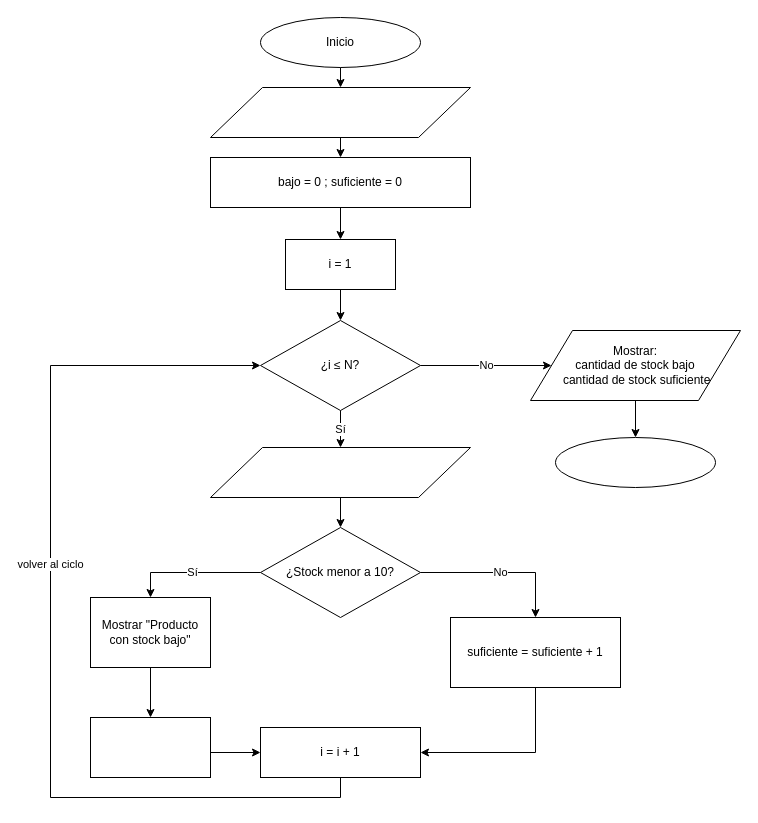
The diagram is 758 pixels wide and 823 high, and some of its shapes have lost their labels. Here are the shapes that lost their labels. From the top down, the box of each, then its label:
(210, 86, 470, 138): Leer cantidad de productos (N)
(210, 446, 470, 498): Leer nombre del producto y su stock
(554, 436, 716, 488): Fin
(90, 716, 210, 778): bajo = bajo + 1
